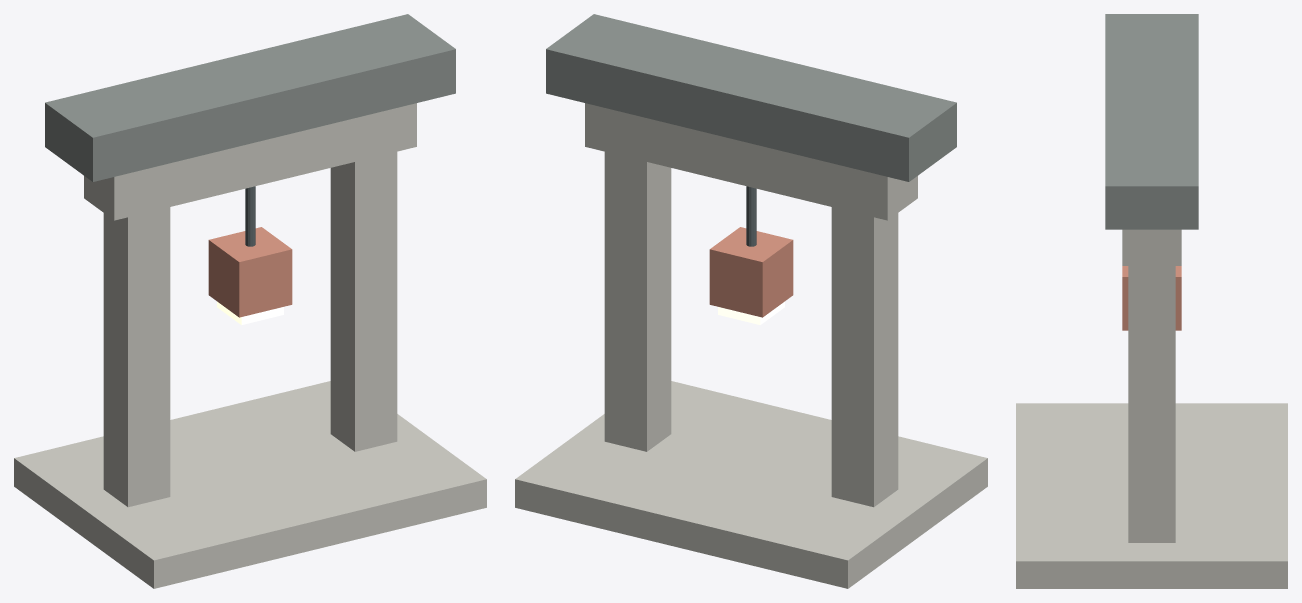
Rendered from LM08_Patent.glb.
3 renders of one model, left to right at view 1: azimuth 30°, elevation 25°; view 2: azimuth 150°, elevation 25°; view 3: azimuth 270°, elevation 25°, orthographic. The views are drawn at different scales.
Parts seen in each view (by area): view 1: Steps, GateRoof, PillarL, PillarR, Lintel, SealCube, SealRod; view 2: Steps, GateRoof, PillarL, PillarR, Lintel, SealCube, SealRod; view 3: Steps, GateRoof, PillarR, Lintel, SealCube.
Part boxes in pixels (left/top/right/bottom): Steps: left=14, top=381, right=486, bottom=588; GateRoof: left=45, top=14, right=455, bottom=181; PillarL: left=103, top=207, right=170, bottom=507; PillarR: left=330, top=151, right=397, bottom=451; Lintel: left=84, top=103, right=416, bottom=220; SealCube: left=208, top=227, right=292, bottom=317; SealRod: left=245, top=186, right=255, bottom=246; Steps: left=515, top=381, right=987, bottom=588; GateRoof: left=546, top=14, right=956, bottom=181; PillarL: left=831, top=207, right=898, bottom=507; PillarR: left=604, top=151, right=671, bottom=451; Lintel: left=585, top=103, right=917, bottom=220; SealCube: left=709, top=227, right=793, bottom=317; SealRod: left=746, top=186, right=756, bottom=246; Steps: left=1016, top=403, right=1287, bottom=588; GateRoof: left=1105, top=14, right=1198, bottom=229; PillarR: left=1128, top=266, right=1175, bottom=542; Lintel: left=1122, top=229, right=1181, bottom=265; SealCube: left=1122, top=266, right=1181, bottom=330.
Bounding box in the file's own units: 2.4 × 2.66 × 1.6.
